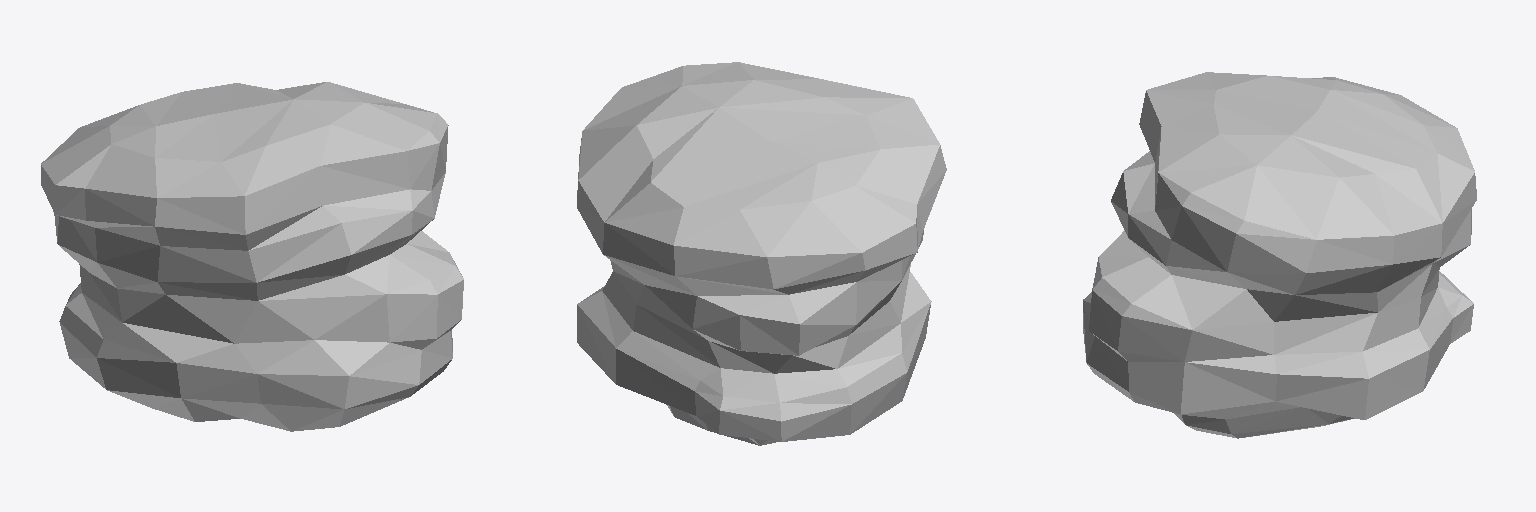
Rendered from rocks2.obj.
3 renders of one model, left to right at view 1: azimuth 30°, elevation 25°; view 2: azimuth 150°, elevation 25°; view 3: azimuth 270°, elevation 25°, orthographic.
Parts seen in each view (by area): view 1: (null)_sep9; view 2: (null)_sep9; view 3: (null)_sep9.
Boxes of the visible parts, x1=… form: (null)_sep9: x1=41, y1=82, x2=463, y2=431; (null)_sep9: x1=577, y1=62, x2=946, y2=445; (null)_sep9: x1=1083, y1=72, x2=1476, y2=438.
Size of the model in its own units: 64.75 by 50.48 by 63.06.